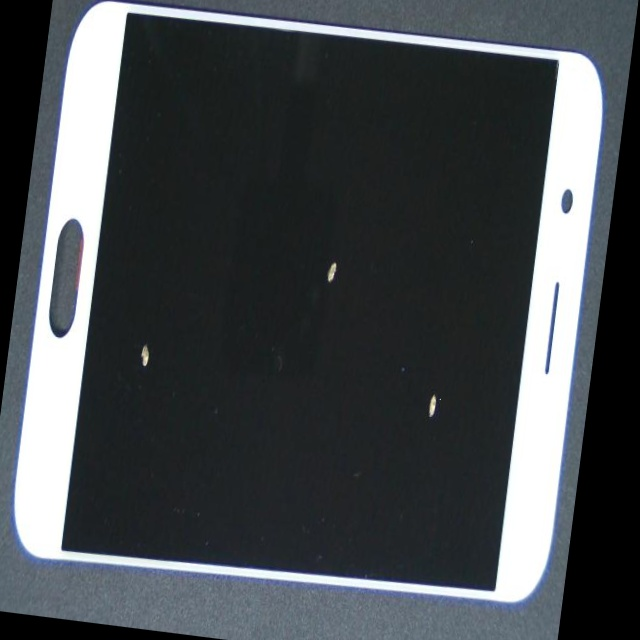stain: (194, 90, 621, 613), (163, 23, 502, 425), (86, 116, 259, 545)
